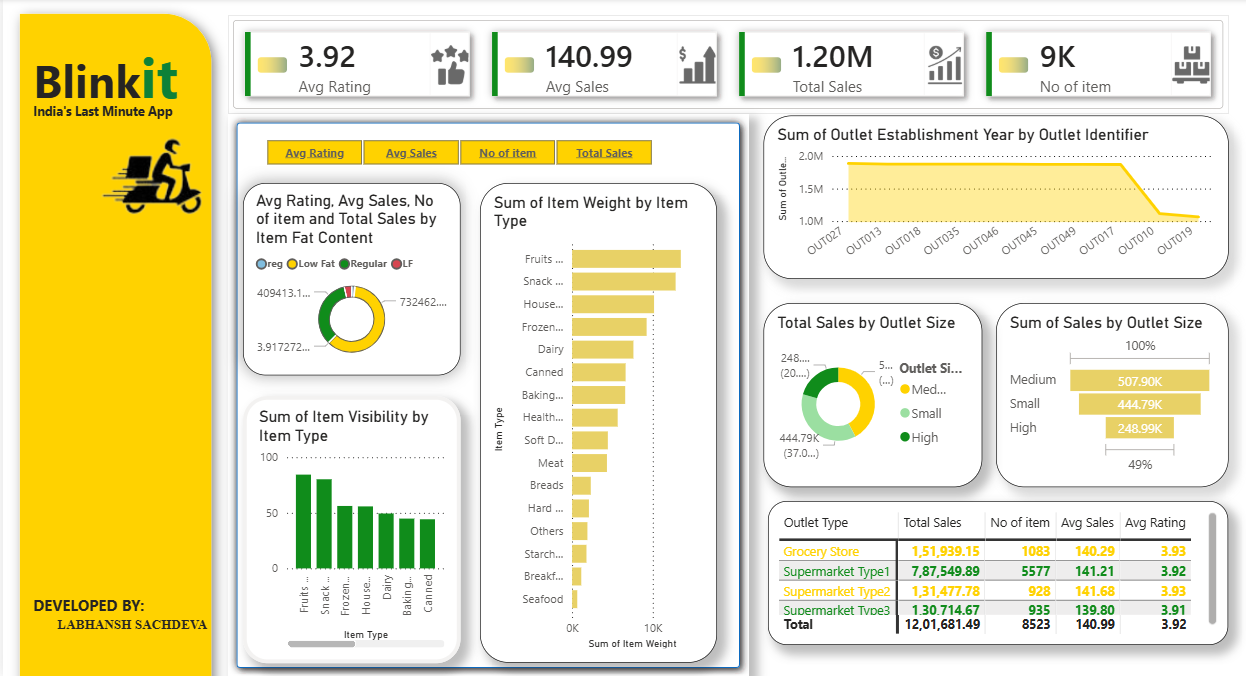

What the dashboard file says about the page in this screenshot:
{"tool":"powerbi","page":{"name":"Page 1","canvas":[1320,720],"ordinal":0},"visuals":[{"type":"shape","box":[0,0,238.6,800.1],"z":0},{"type":"textbox","box":[26.5,38.9,240.4,106],"z":1000},{"type":"textbox","box":[26.5,106,192.6,38.9],"z":2000},{"type":"cardVisual","fields":{"Data":["BlinkIT Grocery Data.Avg Rating","BlinkIT Grocery Data.Avg Sales","BlinkIT Grocery Data.Total Sales","BlinkIT Grocery Data.No of item"]},"box":[238.6,19.1,1060.9,105],"z":3000},{"type":"shape","box":[238.6,124.1,551.9,596.5],"z":4000},{"type":"donutChart","fields":{"Y":["BlinkIT Grocery Data.Avg Rating","BlinkIT Grocery Data.Avg Sales","BlinkIT Grocery Data.No of item","BlinkIT Grocery Data.Total Sales"],"Category":["BlinkIT Grocery Data.Item Fat Content"]},"box":[255.1,196.5,230.6,204.1],"z":5000},{"type":"slicer","fields":{"Values":["Metrics.Metrics"]},"box":[255.1,145.5,457.3,34],"z":6000},{"type":"barChart","fields":{"Category":["BlinkIT Grocery Data.Item Type"],"Y":["Sum(BlinkIT Grocery Data.Item Weight)"]},"box":[505.8,197.2,251.3,509],"z":7000},{"type":"clusteredColumnChart","fields":{"Category":["BlinkIT Grocery Data.Item Type"],"Y":["Sum(BlinkIT Grocery Data.Item Visibility)"]},"box":[255.1,423.3,230.6,283.5],"z":8000},{"type":"stackedAreaChart","fields":{"Y":["Sum(BlinkIT Grocery Data.Outlet Establishment Year)"],"Category":["BlinkIT Grocery Data.Outlet Identifier"]},"box":[806.4,125.7,493.1,173.4],"z":9000},{"type":"funnel","fields":{"Category":["BlinkIT Grocery Data.Outlet Size","BlinkIT Grocery Data.Outlet Location Type"],"Y":["Sum(BlinkIT Grocery Data.Sales)"]},"box":[1053,324.5,246.5,195.6],"z":10000},{"type":"donutChart","fields":{"Category":["BlinkIT Grocery Data.Outlet Size"],"Y":["BlinkIT Grocery Data.Total Sales"]},"box":[806.4,324.5,232.2,195.6],"z":11000},{"type":"pivotTable","fields":{"Rows":["BlinkIT Grocery Data.Outlet Type"],"Values":["BlinkIT Grocery Data.Total Sales","BlinkIT Grocery Data.No of item","BlinkIT Grocery Data.Avg Sales","BlinkIT Grocery Data.Avg Rating"]},"box":[811.2,534.4,488.3,152.7],"z":12000},{"type":"textbox","box":[27,628.3,227.5,77.9],"z":12001},{"type":"image","box":[49.3,38.2,217.9,299],"z":12002}]}

Visuals, with their boxes in screenshot pixels (x1, y1, x2, y2), scaled from the page's 1320x720 canvas onto the 1246x676 screenshot:
shape: (left=0, top=0, right=225, bottom=675)
textbox: (left=25, top=37, right=252, bottom=136)
textbox: (left=25, top=100, right=207, bottom=136)
cardVisual - BlinkIT Grocery Data.Avg Rating x BlinkIT Grocery Data.Avg Sales: (left=225, top=18, right=1227, bottom=117)
shape: (left=225, top=117, right=746, bottom=675)
donutChart - BlinkIT Grocery Data.Avg Rating x BlinkIT Grocery Data.Avg Sales: (left=241, top=184, right=458, bottom=376)
slicer - Metrics.Metrics: (left=241, top=137, right=672, bottom=169)
barChart - BlinkIT Grocery Data.Item Type x Sum(BlinkIT Grocery Data.Item Weight): (left=477, top=185, right=715, bottom=663)
clusteredColumnChart - BlinkIT Grocery Data.Item Type x Sum(BlinkIT Grocery Data.Item Visibility): (left=241, top=397, right=458, bottom=664)
stackedAreaChart - Sum(BlinkIT Grocery Data.Outlet Establishment Year) x BlinkIT Grocery Data.Outlet Identifier: (left=761, top=118, right=1227, bottom=281)
funnel - BlinkIT Grocery Data.Outlet Size x BlinkIT Grocery Data.Outlet Location Type: (left=994, top=305, right=1227, bottom=488)
donutChart - BlinkIT Grocery Data.Outlet Size x BlinkIT Grocery Data.Total Sales: (left=761, top=305, right=980, bottom=488)
pivotTable - BlinkIT Grocery Data.Outlet Type x BlinkIT Grocery Data.Total Sales: (left=766, top=502, right=1227, bottom=645)
textbox: (left=25, top=590, right=240, bottom=663)
image: (left=47, top=36, right=252, bottom=317)
